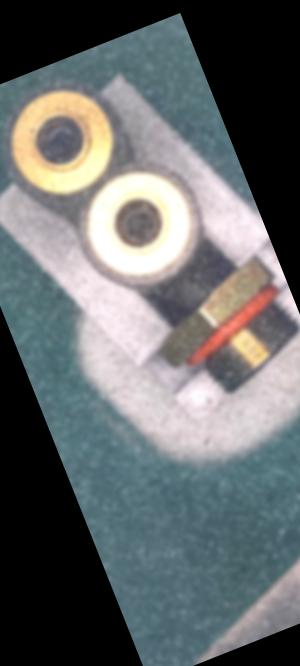craze: (187, 268, 209, 300)
